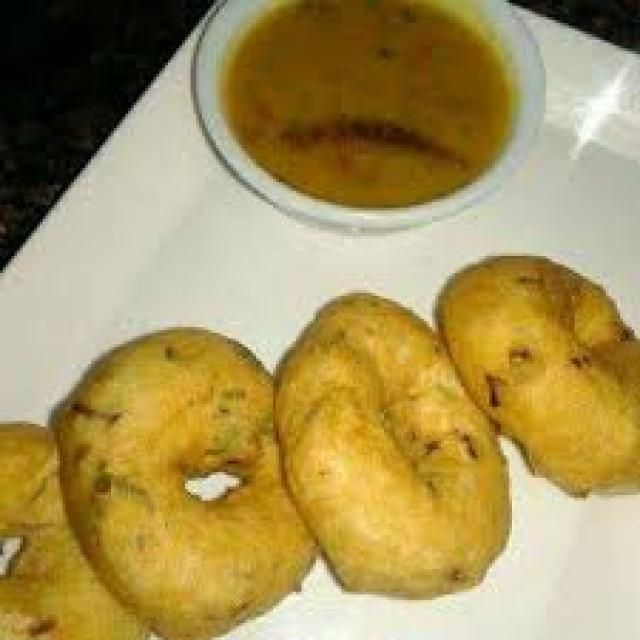MEDU VADA: (62, 335, 323, 637), (280, 296, 512, 596), (433, 249, 637, 494), (0, 420, 138, 632)
